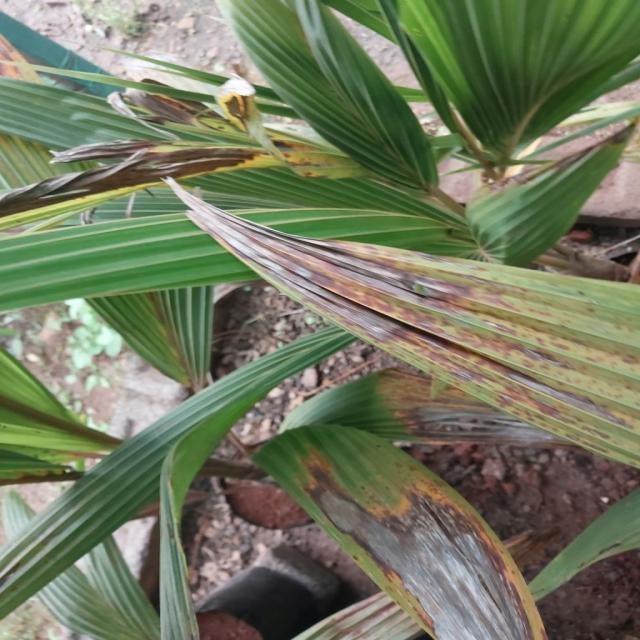gray leaf spot: (168, 180, 640, 640)
